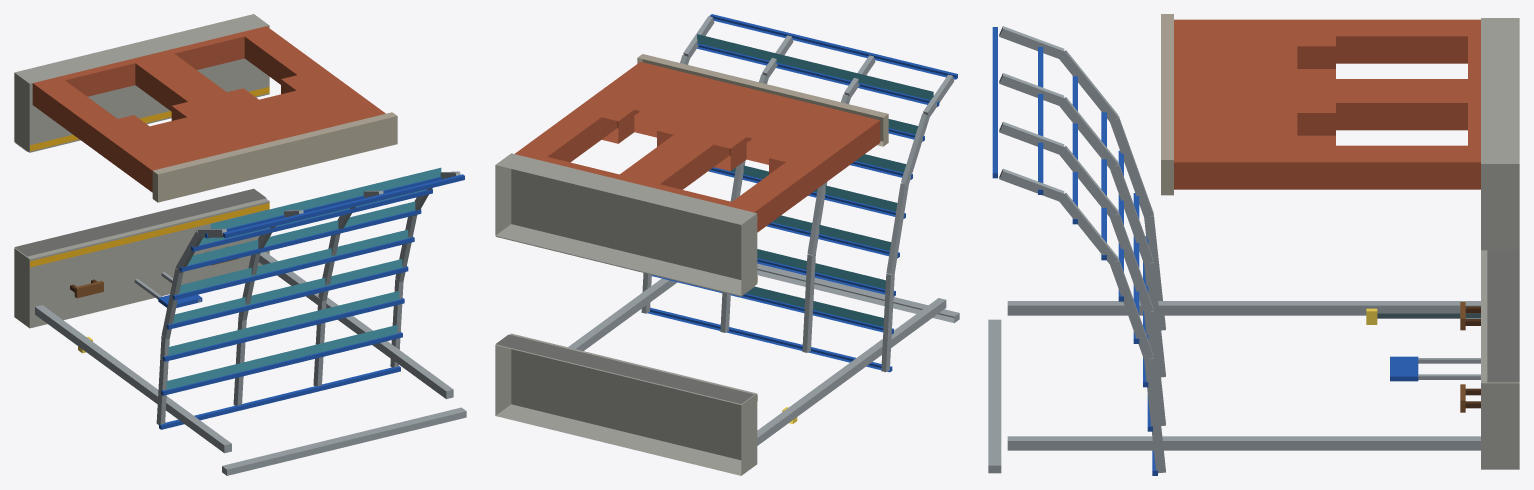
3 views of the same model, side by side, from view 1: azimuth 30°, elevation 25°; view 2: azimuth 150°, elevation 25°; view 3: azimuth 270°, elevation 25° (orthographic). The views are drawn at different scales.
Parts seen in each view (by area): view 1: station_rail_roof_b_default; view 2: station_rail_roof_b_default; view 3: station_rail_roof_b_default.
Part boxes in pixels (x1=…): station_rail_roof_b_default: x1=14, y1=14, x2=466, y2=475; station_rail_roof_b_default: x1=495, y1=14, x2=959, y2=475; station_rail_roof_b_default: x1=988, y1=14, x2=1519, y2=475.
Bounding box in the file's own units: 16 × 16.13 × 24.6.
